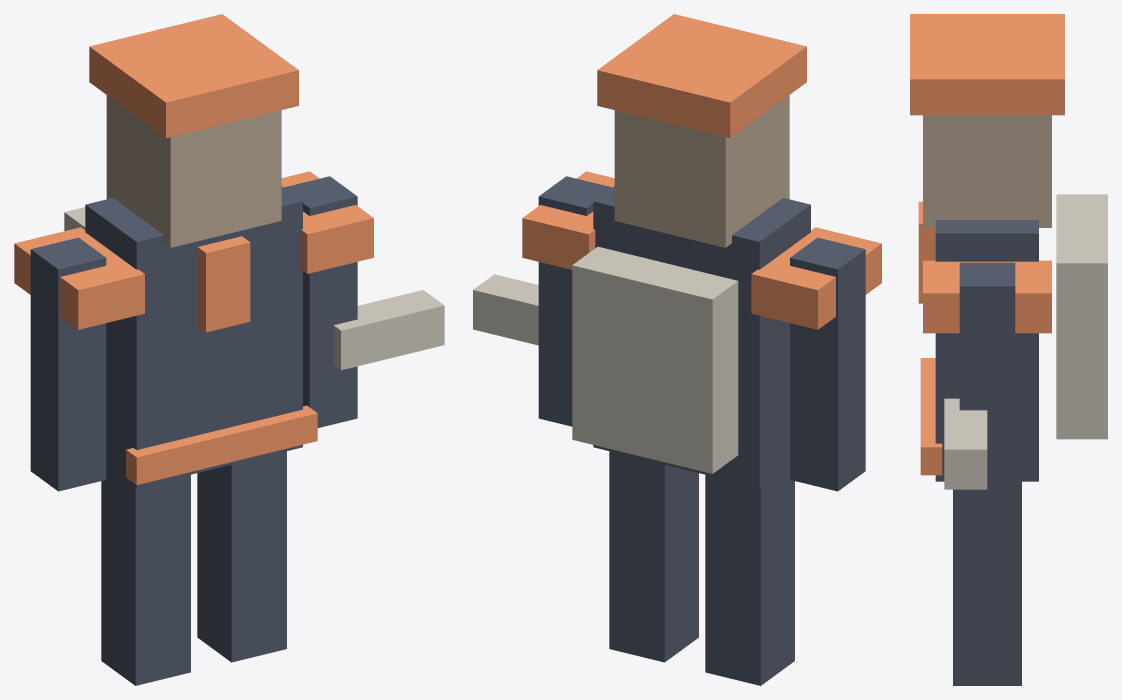
File: 12_tovin_tideforged_engineer_under_helipad.glb
3 renders of one model, left to right at view 1: azimuth 30°, elevation 25°; view 2: azimuth 150°, elevation 25°; view 3: azimuth 270°, elevation 25°, orthographic.
Parts seen in each view (by area): view 1: Tovin Tideforged, Engineer under Helipad; view 2: Tovin Tideforged, Engineer under Helipad; view 3: Tovin Tideforged, Engineer under Helipad.
Part boxes in pixels (box(x1,y1,x2,y2)): Tovin Tideforged, Engineer under Helipad: box(14, 14, 444, 685); Tovin Tideforged, Engineer under Helipad: box(473, 14, 881, 685); Tovin Tideforged, Engineer under Helipad: box(910, 14, 1107, 685).
Bounding box in the file's own units: 1.03 × 1.56 × 0.4644.
